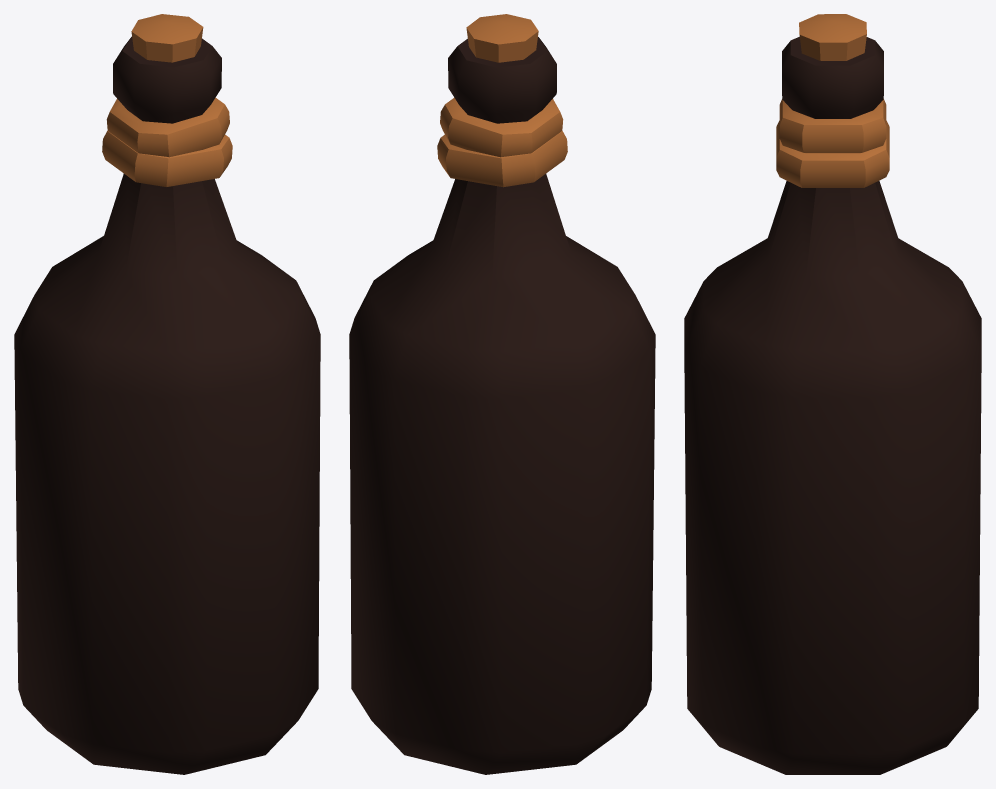
File: ale_bottle_A.obj
3 renders of one model, left to right at view 1: azimuth 30°, elevation 25°; view 2: azimuth 150°, elevation 25°; view 3: azimuth 270°, elevation 25°, orthographic.
Visible parts, largest first — view 1: ale_bottle_A_Cylinder.184; view 2: ale_bottle_A_Cylinder.184; view 3: ale_bottle_A_Cylinder.184.
Boxes of the visible parts, bbox=[...] form: ale_bottle_A_Cylinder.184: bbox=[14, 14, 320, 774]; ale_bottle_A_Cylinder.184: bbox=[349, 14, 655, 774]; ale_bottle_A_Cylinder.184: bbox=[684, 14, 981, 774].
Size of the model in its own units: 0.3126 by 0.8184 by 0.3126.
